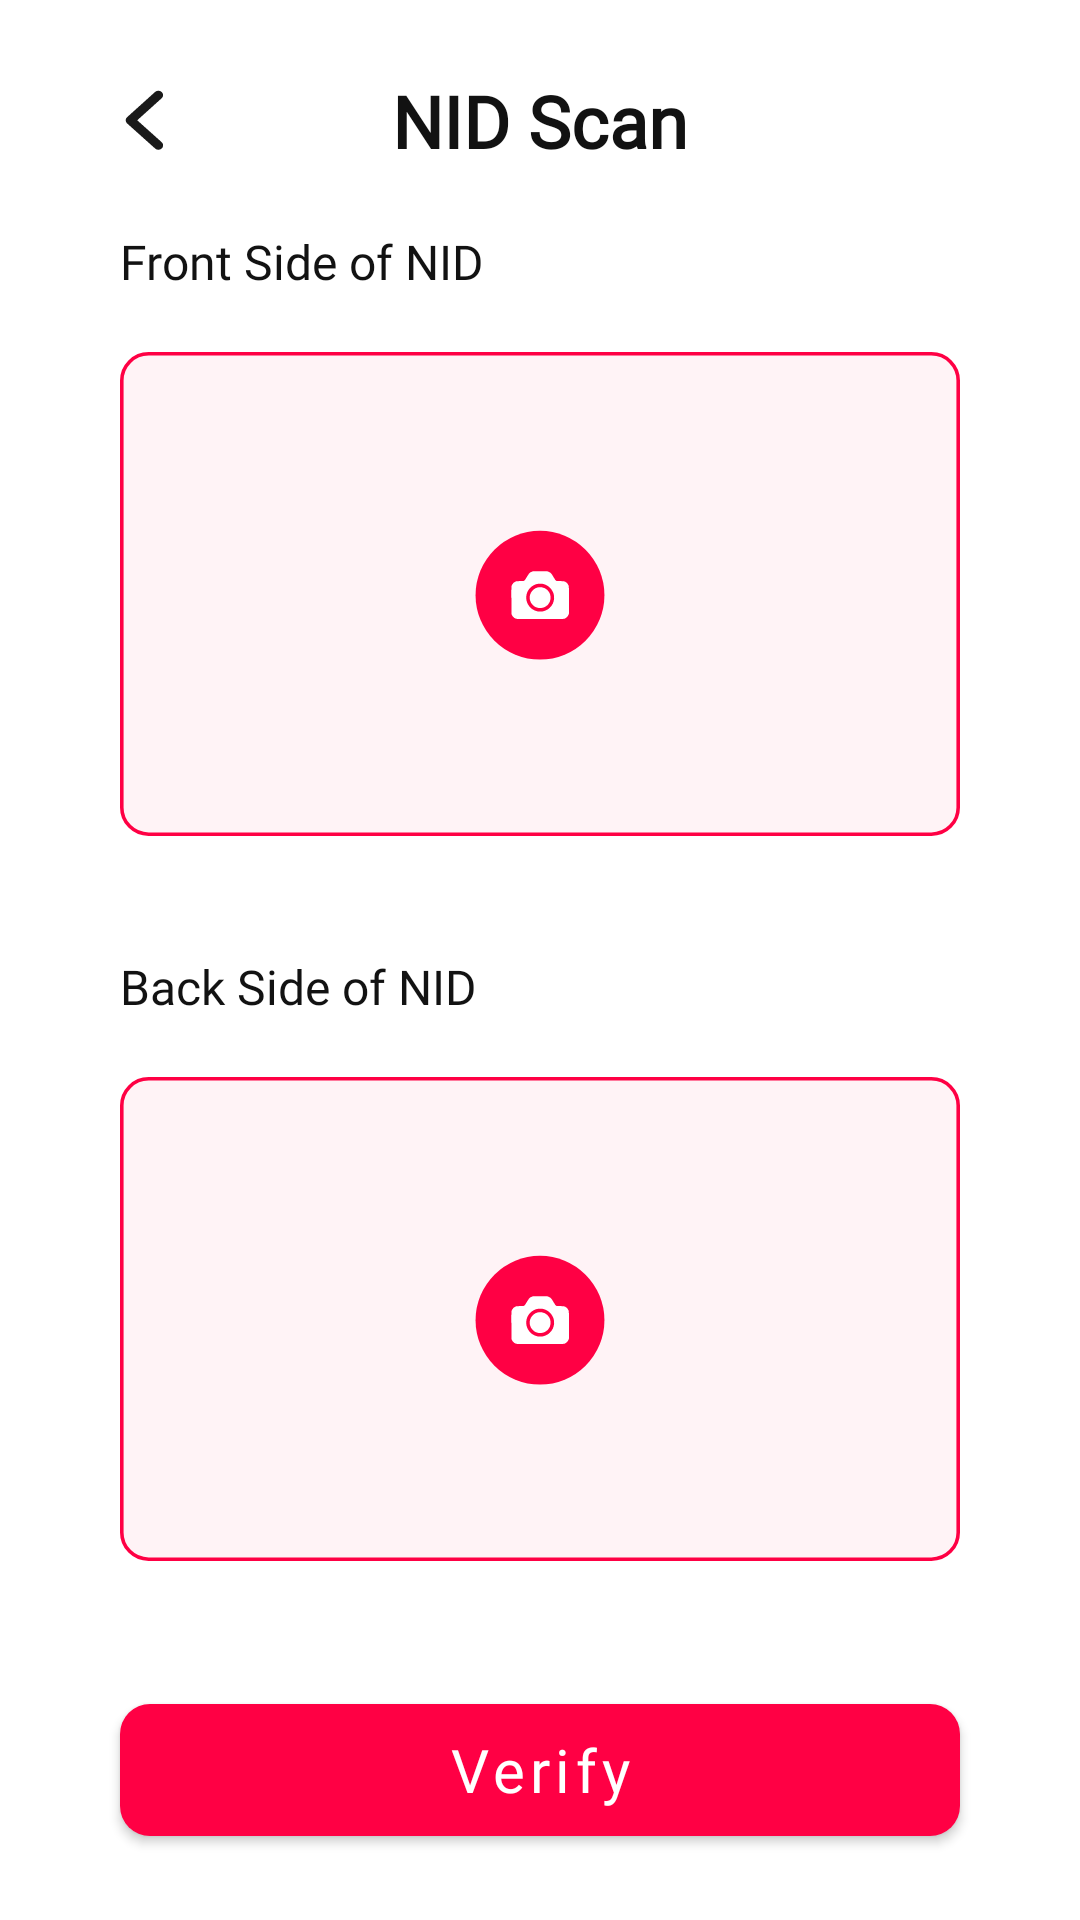

Where icons sit on this 1080×1920 app screen, as Rect(x1, y1, x2, y2):
back: Rect(125, 90, 163, 150)
